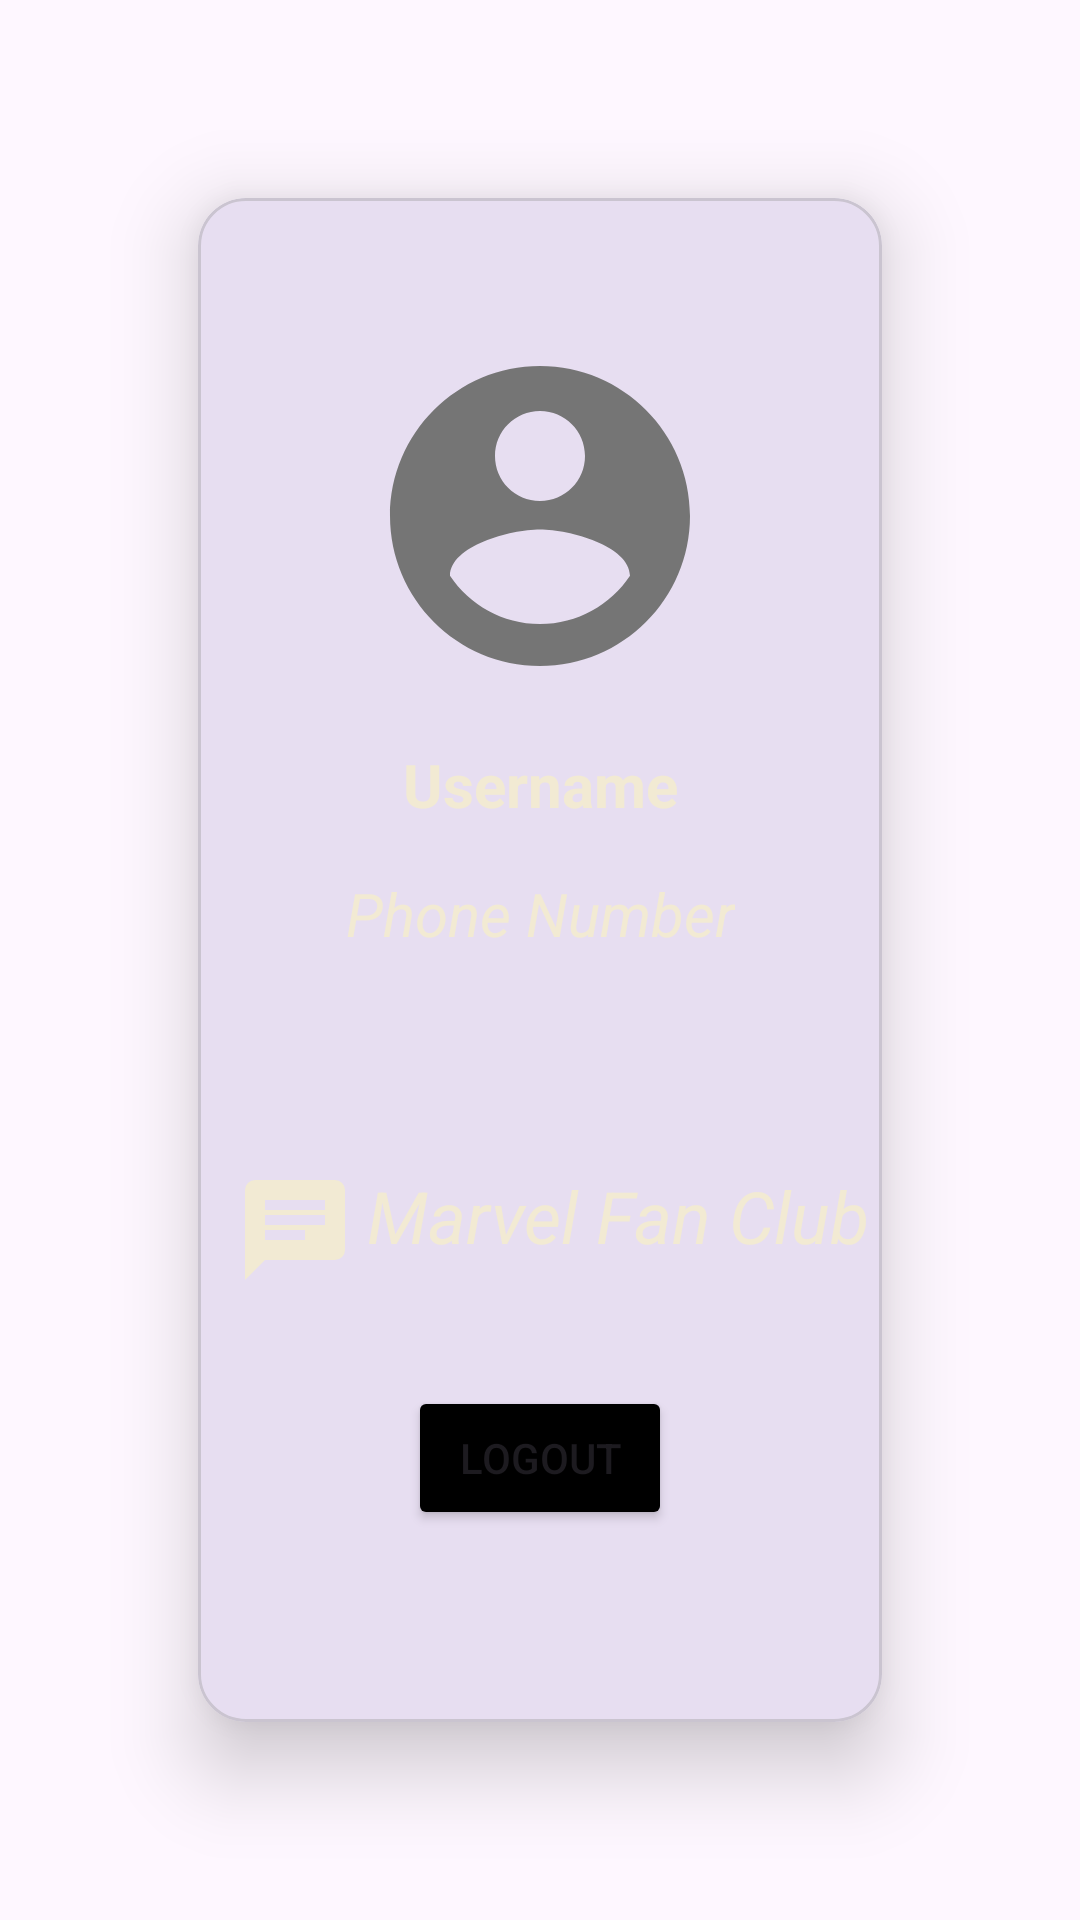

Screen size 1080px x 1920px. Icon name, then its box in pixels as (x1, y1, x2, y2):
account circle: (390, 366, 690, 666)
message text: (245, 1180, 345, 1279)
